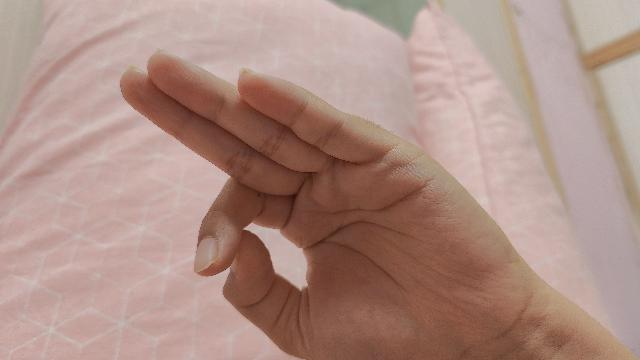aral: (118, 52, 640, 360)
